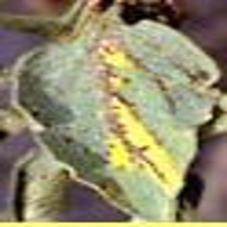Bacterial Spot: (12, 16, 222, 222)
